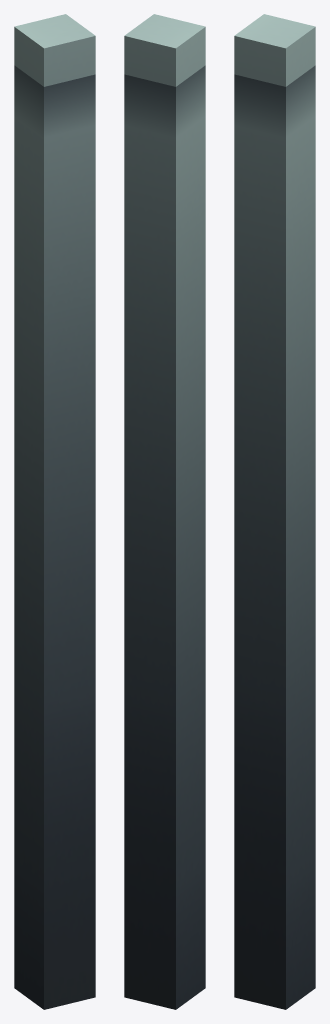
The model's file is fence_mesh_pole.fbx.
The picture shows the model from 3 angles, left to right: view 1: azimuth 30°, elevation 25°; view 2: azimuth 150°, elevation 25°; view 3: azimuth 330°, elevation 25°; orthographic projection.
Visible parts, largest first — view 1: fence_mesh_pole; view 2: fence_mesh_pole; view 3: fence_mesh_pole.
Part boxes in pixels (x1=…): fence_mesh_pole: x1=14, y1=14, x2=95, y2=1009; fence_mesh_pole: x1=124, y1=14, x2=205, y2=1009; fence_mesh_pole: x1=234, y1=14, x2=315, y2=1009.
Size of the model in its own units: 14.07 by 250 by 14.07.
